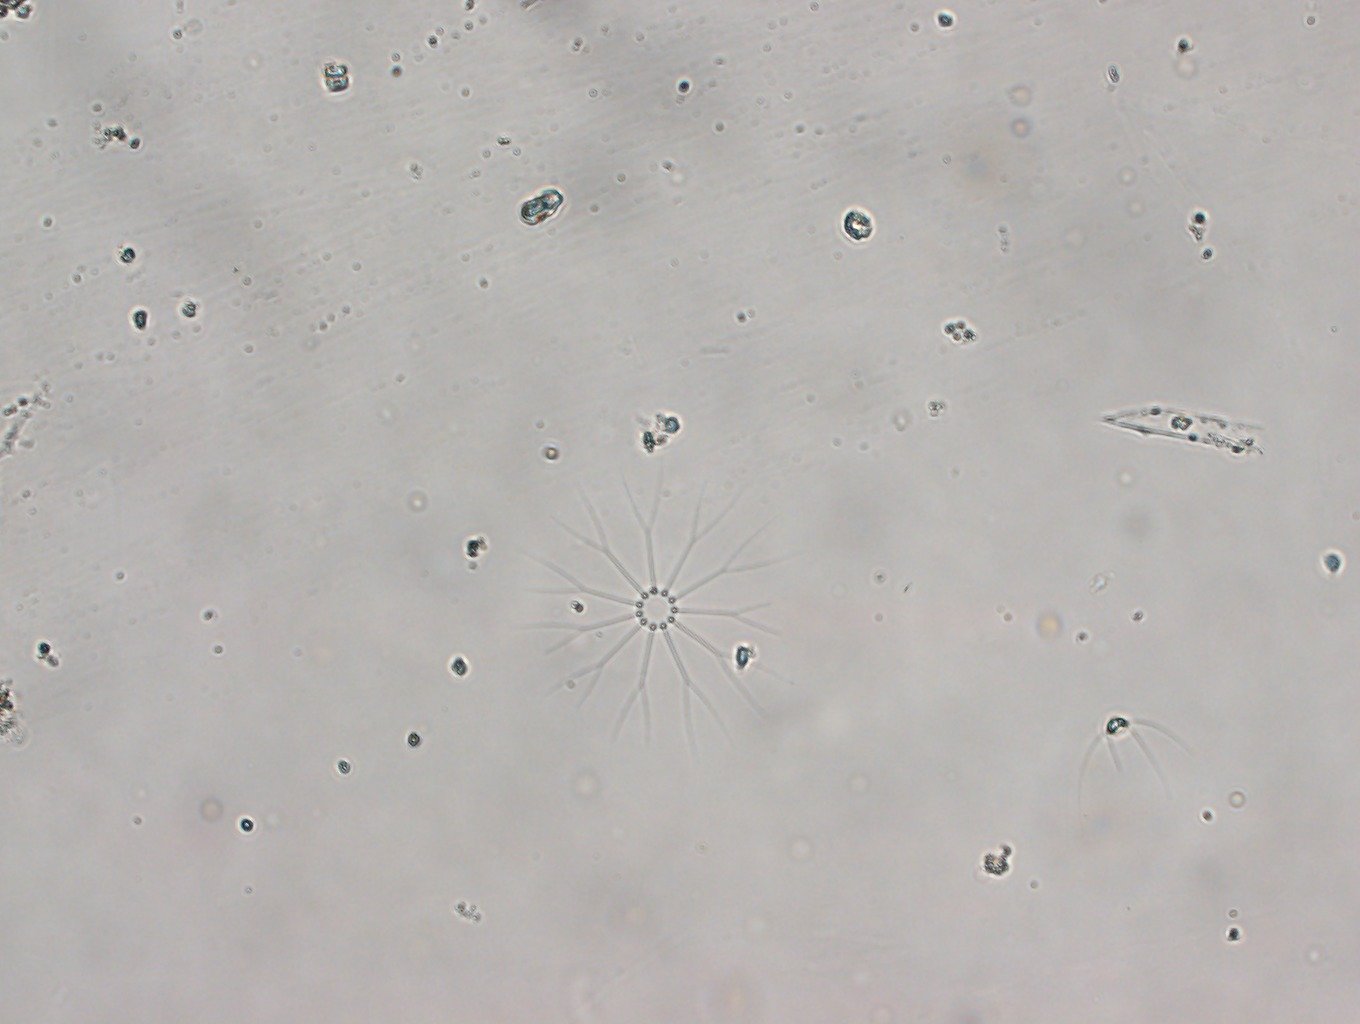bacteriastrum: (522, 470, 794, 755)
